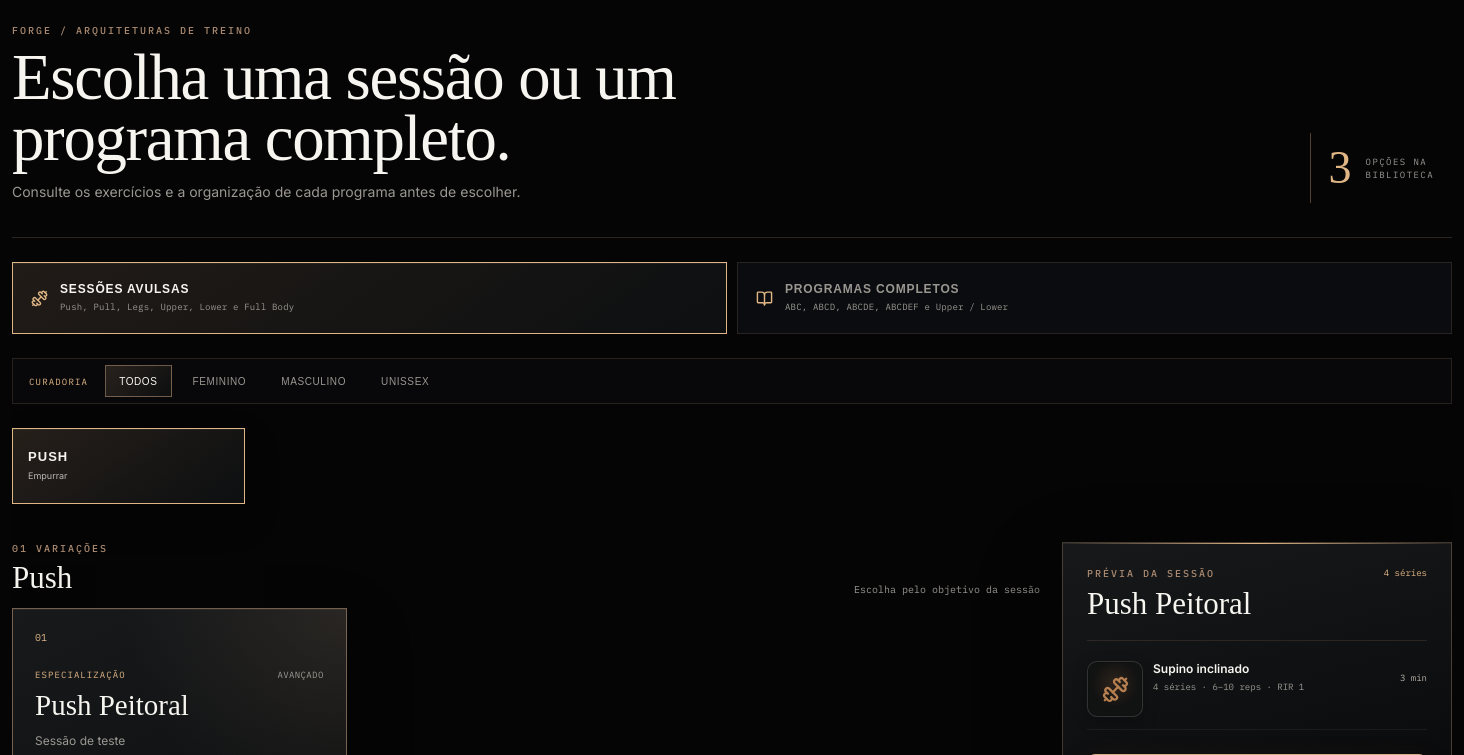
WorkoutLibrary mobile apply interaction › Ver programa troca a prévia e a mantém visível no mobile
This screenshot has width=1464, height=755.
Step 1. Click the tab with test id "library-programs-tab" → (872, 289), box [737,262,1452,334]
(page scrolled)
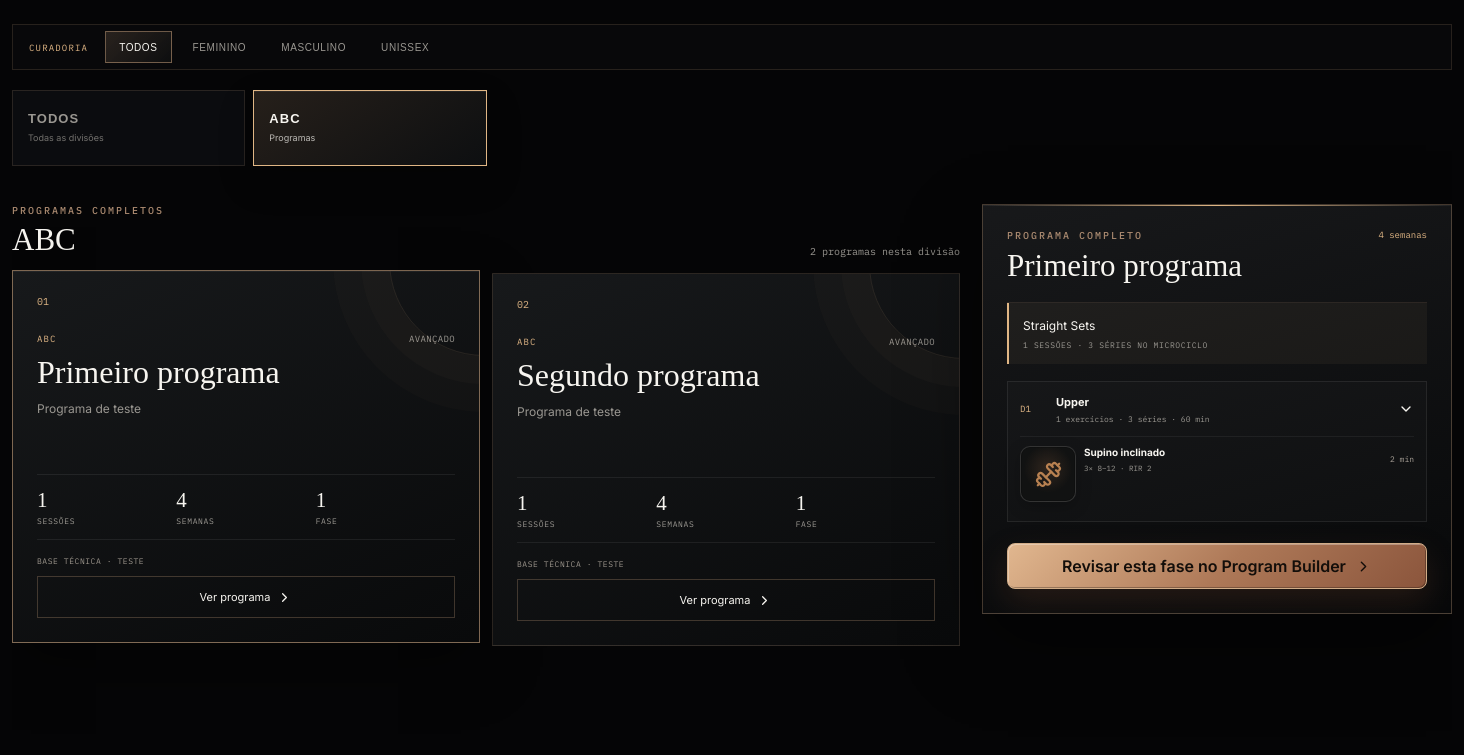
Expected: the element with test id "training-program-second" is shown, [492,273,960,646]
Step 2. Click the button with class "library-add" below "Segundo programa" → (726, 600), box [517,579,935,621]
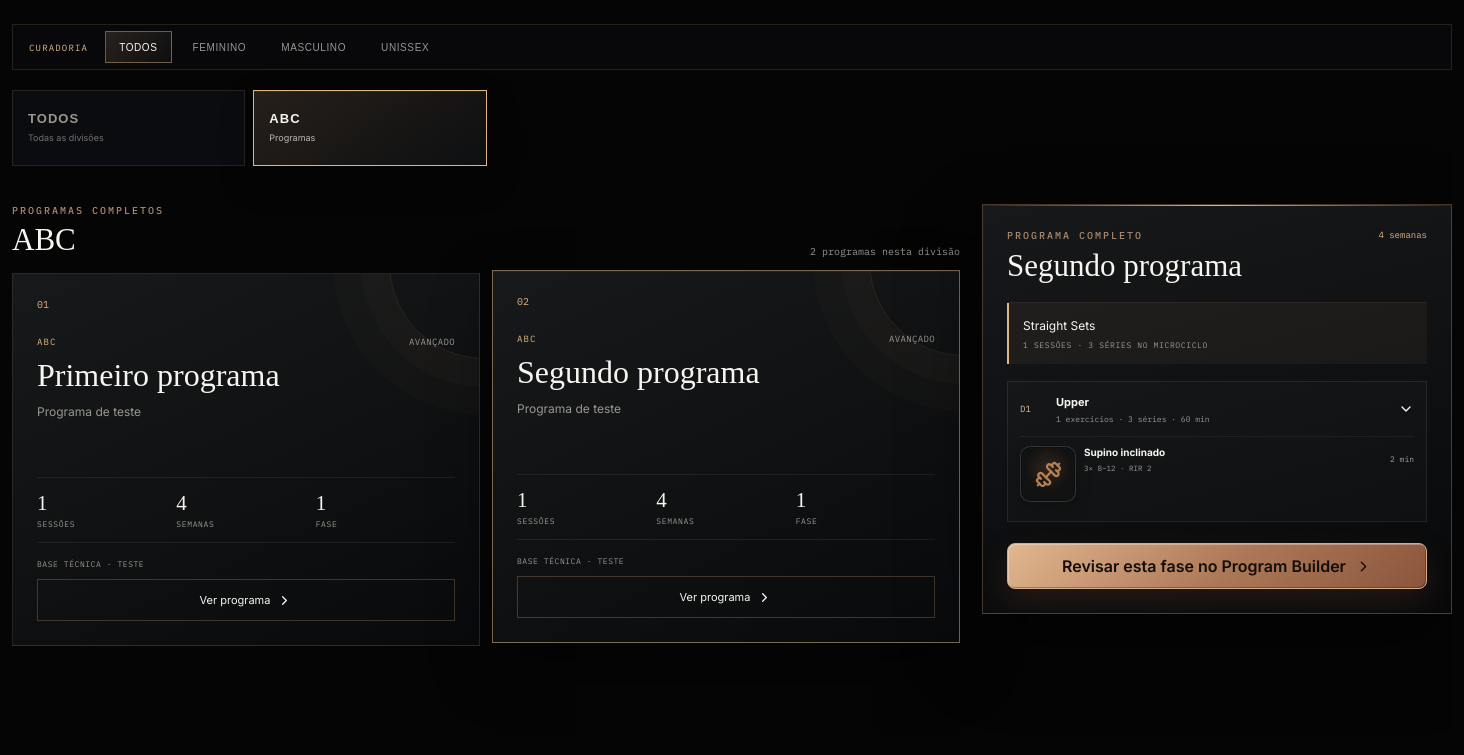
Expected: the element with test id "program-preview" shows "Segundo programa", [1007,248,1242,283]
